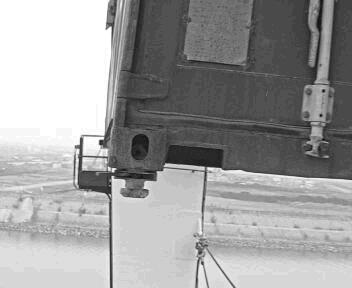twist_lock_1: (109, 166, 163, 203)
